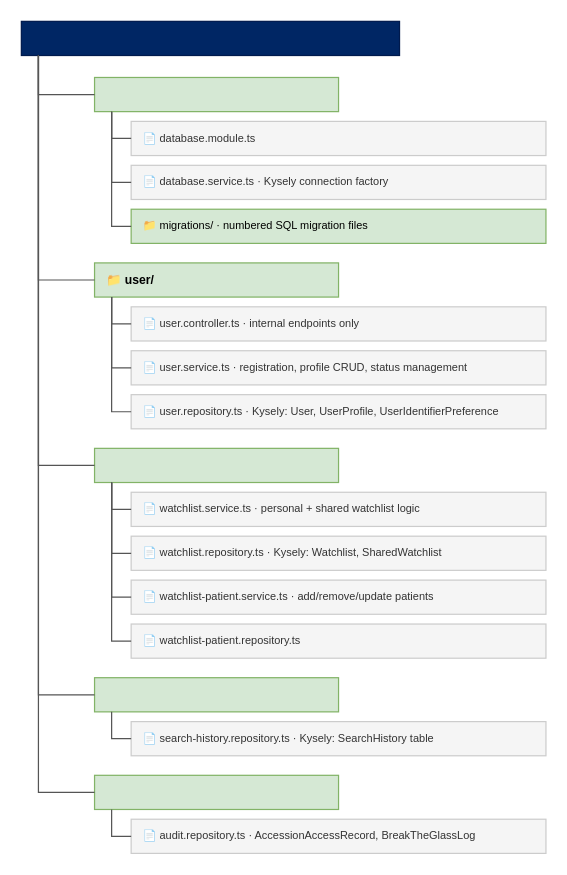
The diagram is 567 pixels wide and 875 high, and some of its shapes have lost their labels. The centre of each missing label's shape, as x and y in pixels:
"📁 audit/" belongs at (216,791).
"📁 database/" belongs at (216,94).
"📁 proc-pathworks-service-v1 / src/" belongs at (210,38).
"📁 search-history/" belongs at (216,694).
"📁 watchlist/" belongs at (216,465).
